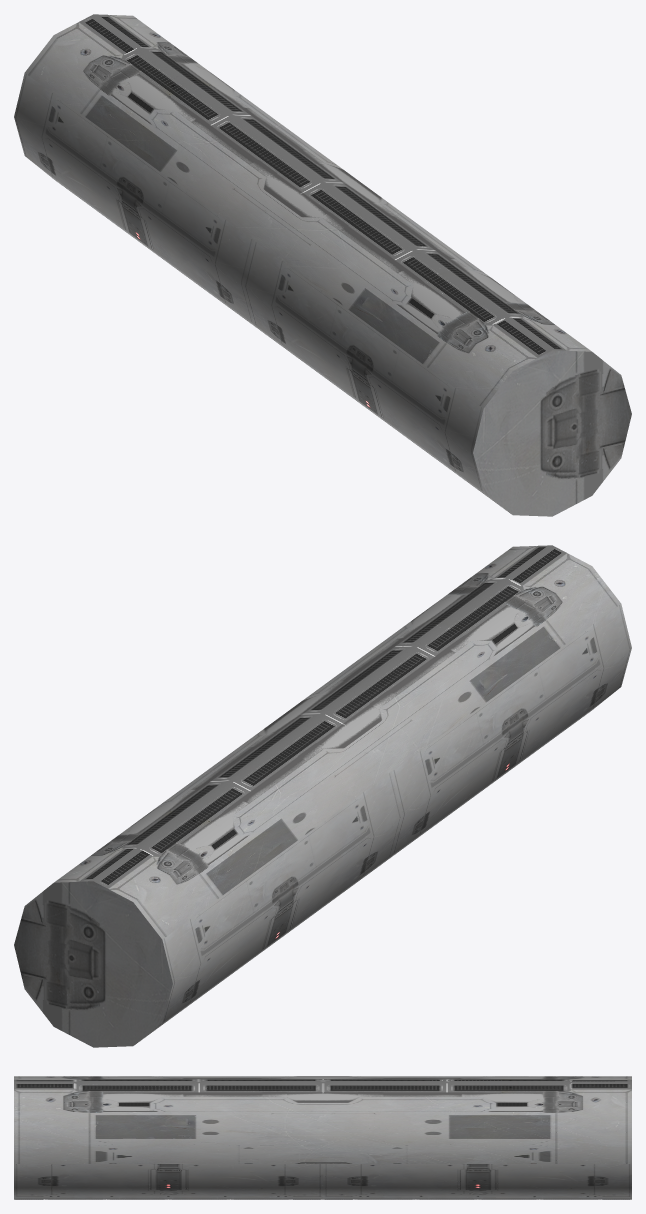
Rendered from SM_Pipe3.fbx.
The picture shows the model from 3 angles, top to bottom: view 1: azimuth 30°, elevation 25°; view 2: azimuth 150°, elevation 25°; view 3: azimuth 270°, elevation 25°; orthographic projection. The views are drawn at different scales.
Parts seen in each view (by area): view 1: SM_Pipe3_LOD0; view 2: SM_Pipe3_LOD0; view 3: SM_Pipe3_LOD0.
Part boxes in pixels (x1=…): SM_Pipe3_LOD0: x1=14, y1=14, x2=631, y2=516; SM_Pipe3_LOD0: x1=14, y1=545, x2=631, y2=1047; SM_Pipe3_LOD0: x1=14, y1=1076, x2=631, y2=1199.
Bounding box in the file's own units: 40 × 200 × 40.
1 material, 1 textured.
